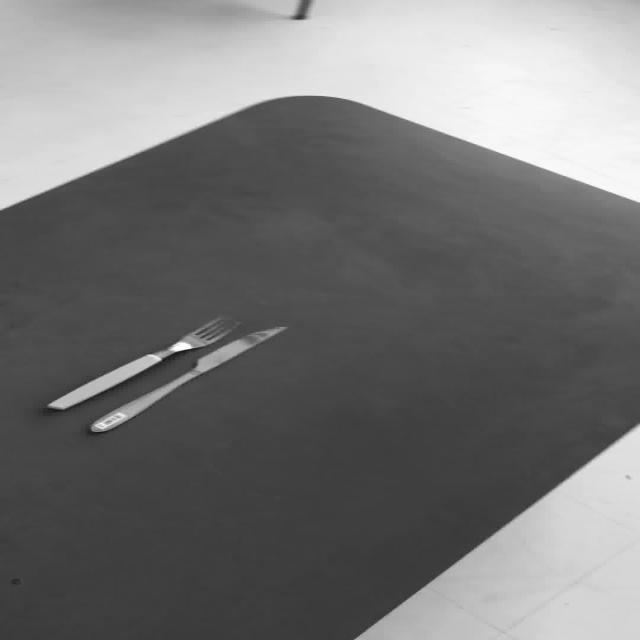fork: (89, 324, 288, 432), (44, 316, 240, 411)
knife fork: (88, 324, 288, 433), (44, 316, 240, 411)
